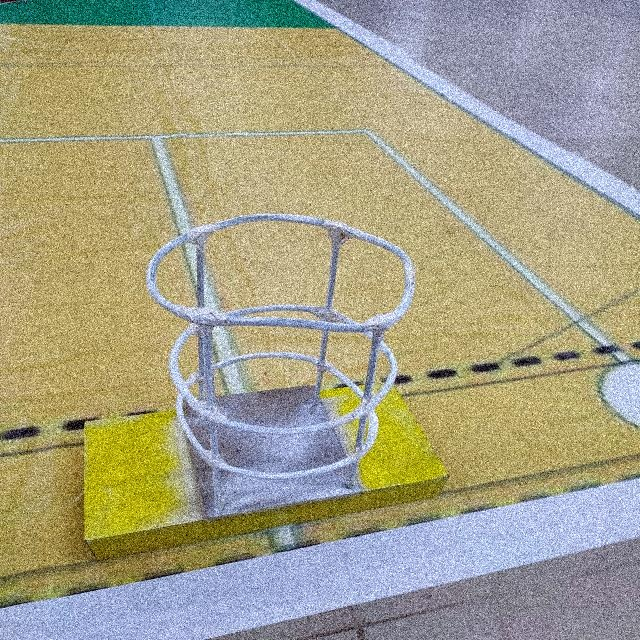silo: (120, 199, 434, 525)
